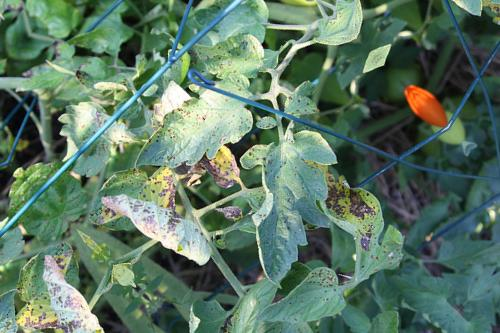Tomato Septoria leaf spot: (187, 101, 381, 295), (120, 53, 277, 211), (293, 157, 431, 295), (102, 164, 226, 287), (76, 136, 198, 258), (32, 73, 153, 195), (186, 10, 281, 106), (252, 252, 359, 333), (272, 69, 334, 131)
